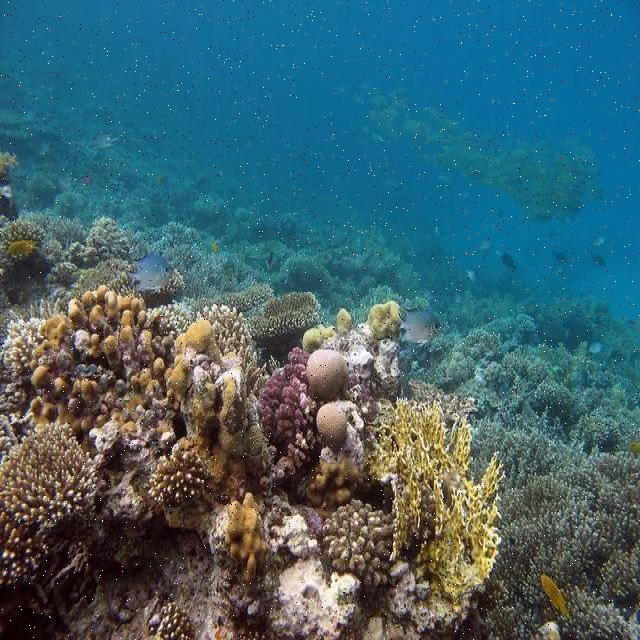fish: (127, 255, 172, 292), (396, 307, 442, 343), (540, 574, 567, 614)
reefs: (150, 299, 505, 639), (1, 256, 322, 586)
